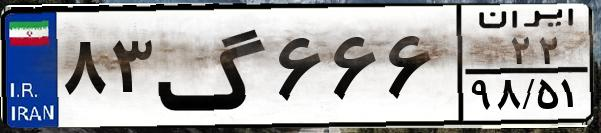1: (560, 70, 590, 125)
2: (537, 27, 568, 80), (508, 27, 537, 80)
3: (110, 28, 156, 98)
5: (535, 70, 560, 125)
6: (270, 28, 330, 110), (385, 28, 445, 110), (330, 28, 385, 110)
8: (57, 26, 110, 100), (495, 70, 520, 125)
9: (470, 70, 495, 125)
گ: (156, 12, 270, 120)
